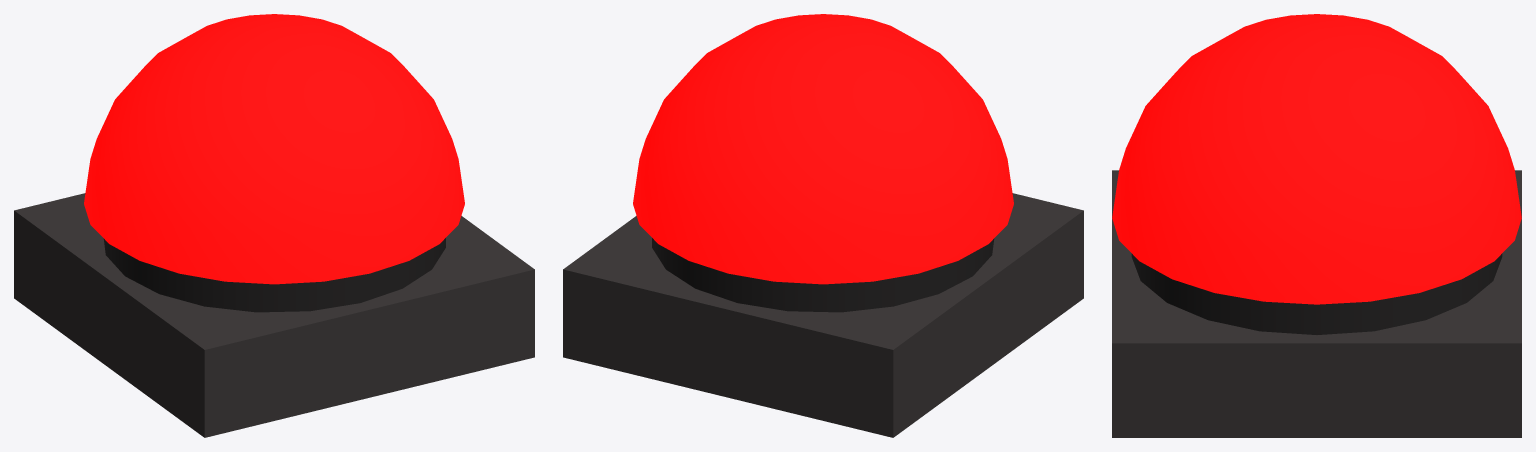
The model's file is cool_button.glb.
3 views of the same model, side by side, from view 1: azimuth 30°, elevation 25°; view 2: azimuth 150°, elevation 25°; view 3: azimuth 270°, elevation 25° (orthographic). The views are drawn at different scales.
Parts seen in each view (by area): view 1: Object_2, Object_3, Object_4; view 2: Object_2, Object_3, Object_4; view 3: Object_2, Object_3, Object_4.
Part boxes in pixels (x1,y1,x2,y2): Object_2: (84, 14, 464, 284); Object_3: (14, 193, 534, 437); Object_4: (103, 238, 445, 312); Object_2: (633, 14, 1013, 284); Object_3: (563, 193, 1083, 437); Object_4: (652, 238, 994, 312); Object_2: (1112, 14, 1521, 304); Object_3: (1112, 170, 1521, 437); Object_4: (1131, 253, 1502, 334).
Bounding box in the file's own units: 1 × 0.859 × 1.
